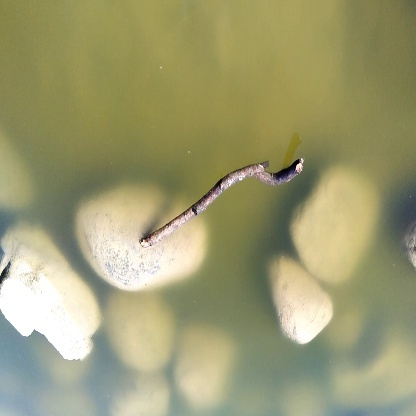branch: (138, 152, 308, 268)
